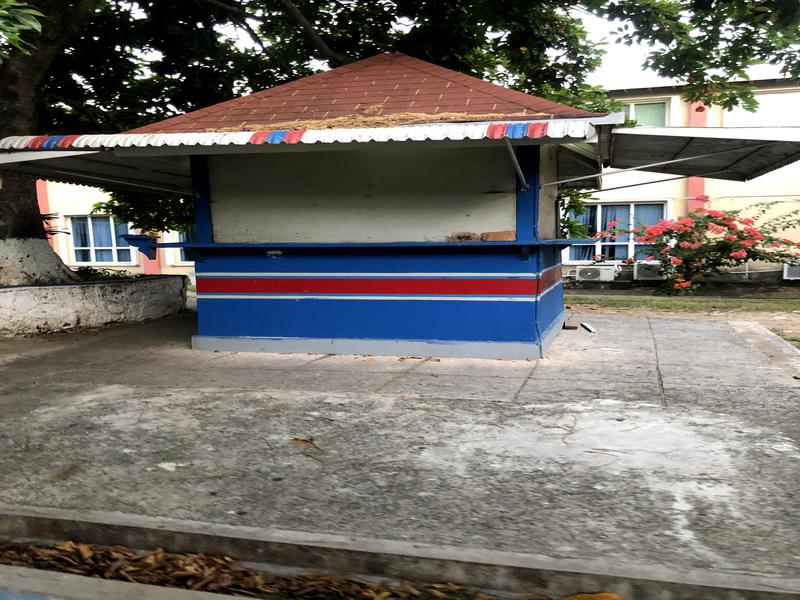18.0050609_-76.7496662_auntyjackie: (85, 36, 648, 379)
